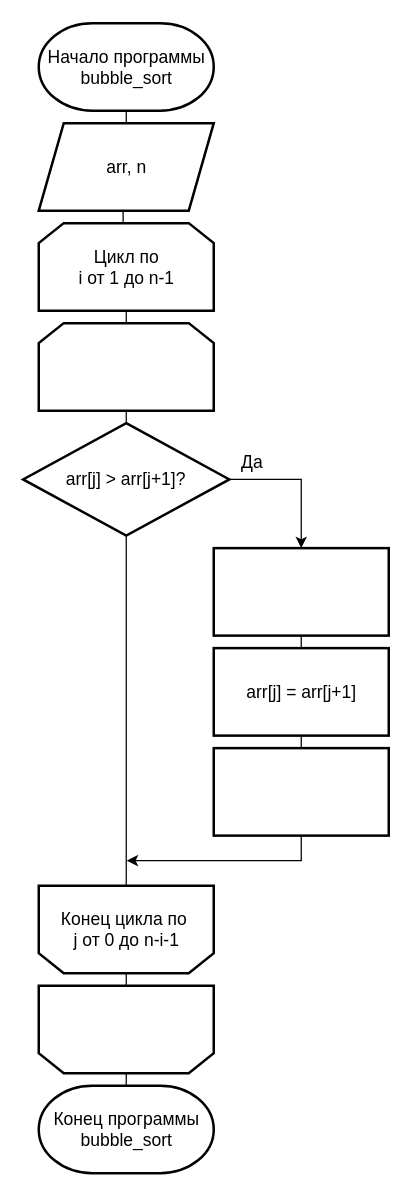
This 411x1195 diagram has some shape labels left out. Here are the shapes that lost their labels. From the top down, the centre of each, then its label:
point 125,366: Цикл по j от 0 до n-i-1
point 300,591: tmp = arr[j]
point 300,791: arr[j+1] = tmp
point 125,1029: Конец цикла по i от 1 до n-1
